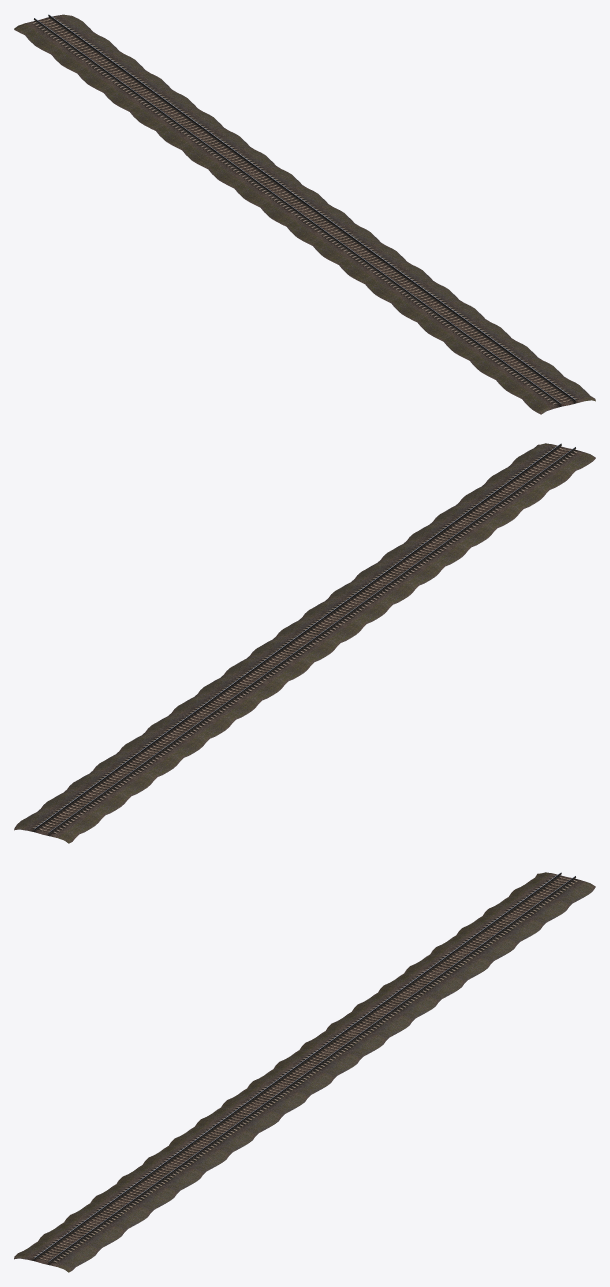
Rendered from 1track_TSM_TBB_Rails.gltf.
3 views of the same model, one above another, from view 1: azimuth 30°, elevation 25°; view 2: azimuth 150°, elevation 25°; view 3: azimuth 330°, elevation 25° (orthographic).
Size of the model in its own units: 6.7 by 0.6438 by 101.
1 material, 1 textured.
